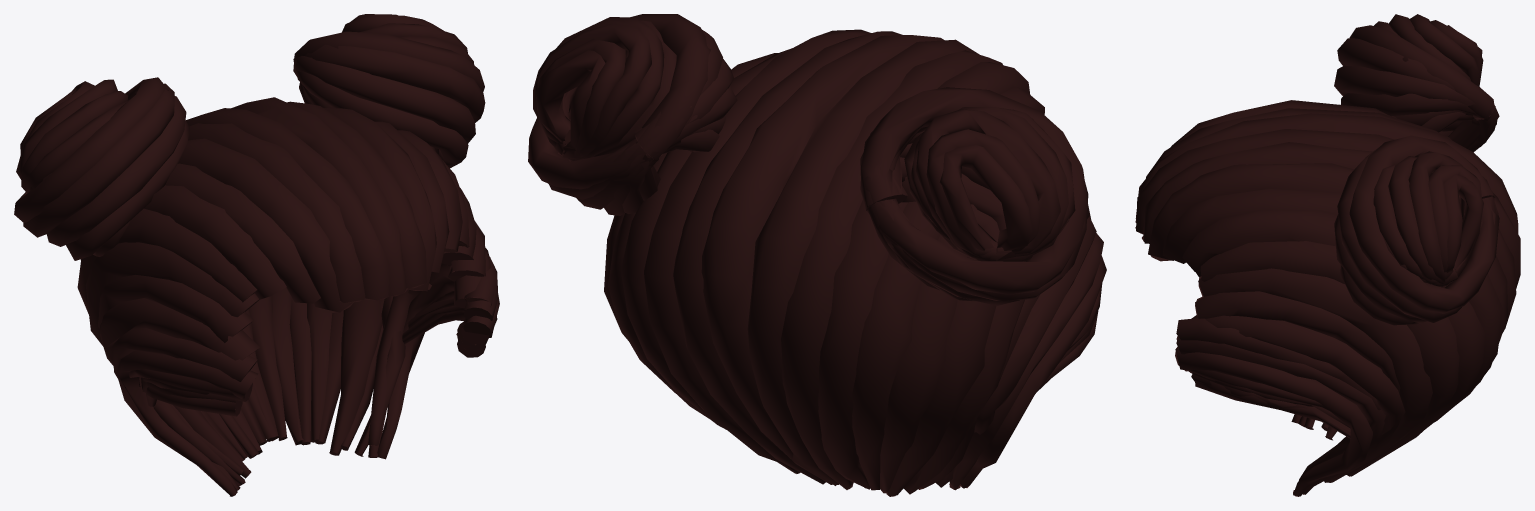
File: hair-6-18027400.glb
3 views of the same model, side by side, from view 1: azimuth 30°, elevation 25°; view 2: azimuth 150°, elevation 25°; view 3: azimuth 270°, elevation 25° (orthographic). The views are drawn at different scales.
Visible parts, largest first — view 1: hair_6.001; view 2: hair_6.001; view 3: hair_6.001.
Boxes of the visible parts, bbox=[...] form: hair_6.001: bbox=[14, 14, 499, 496]; hair_6.001: bbox=[528, 14, 1106, 496]; hair_6.001: bbox=[1135, 14, 1520, 496].
Size of the model in its own units: 2.43 by 1.95 by 1.82.
